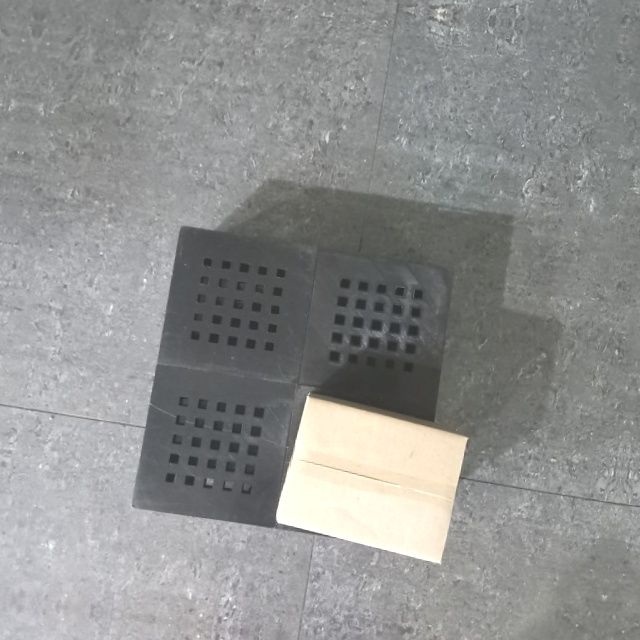box: (272, 388, 472, 566)
pallet: (125, 217, 471, 557)
